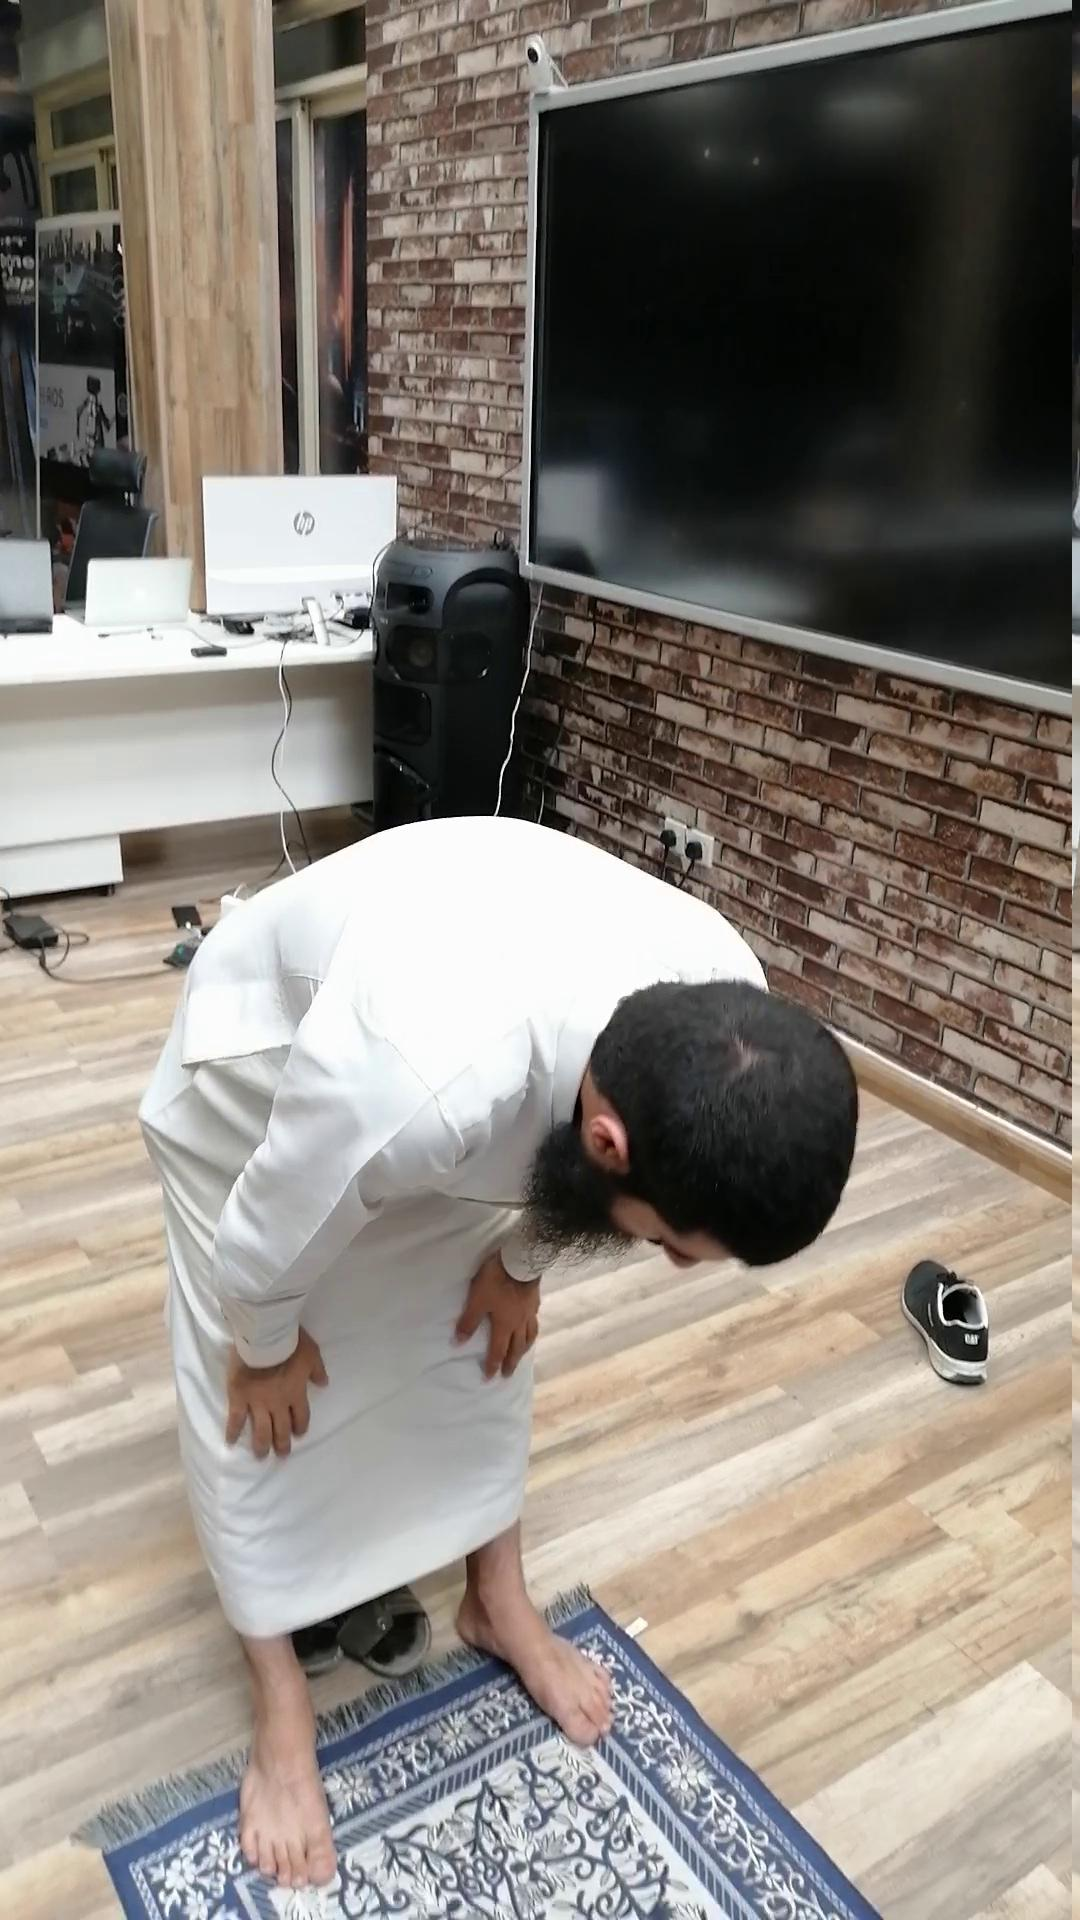ruku: (135, 810, 866, 1892)
